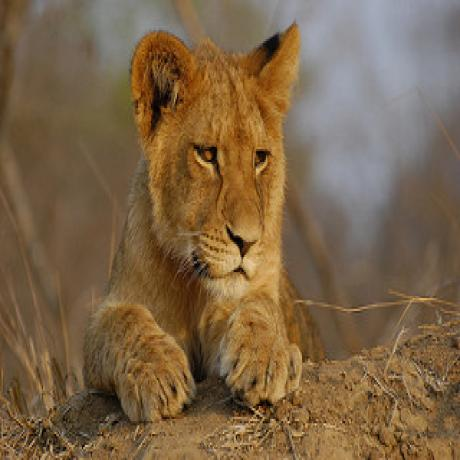Lion: (84, 16, 316, 429)
